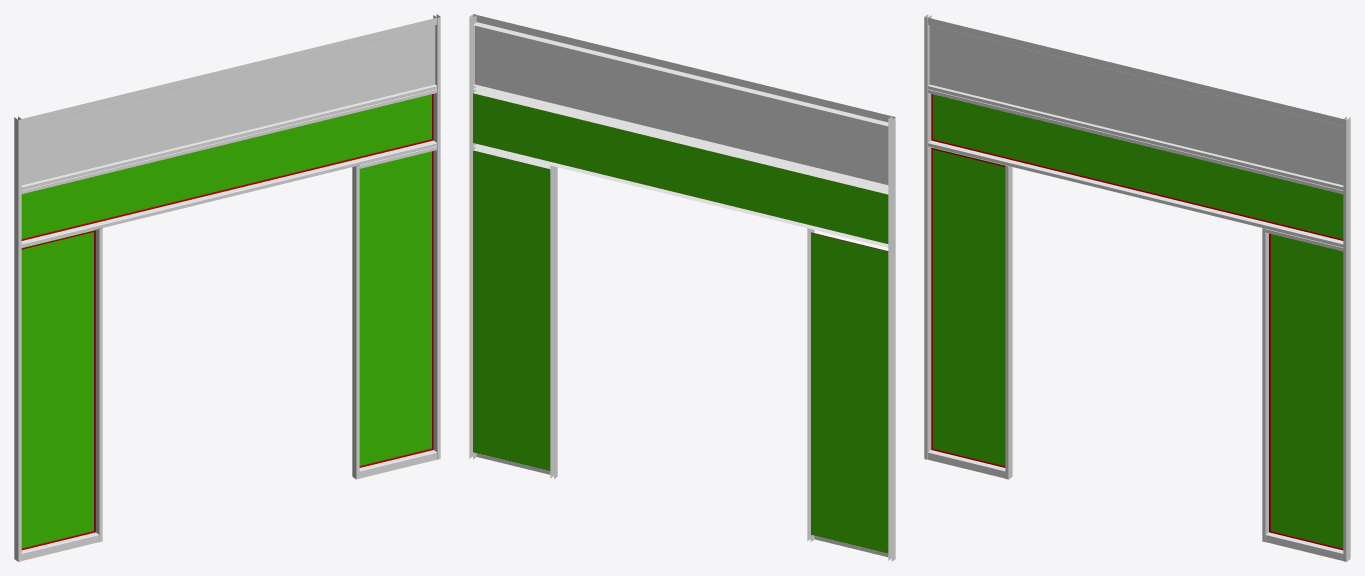
The model's file is Wall04Door.fbx.
The picture shows the model from 3 angles, left to right: view 1: azimuth 30°, elevation 25°; view 2: azimuth 150°, elevation 25°; view 3: azimuth 330°, elevation 25°; orthographic projection.
Parts seen in each view (by area): view 1: Wall04Door; view 2: Wall04Door; view 3: Wall04Door.
Part boxes in pixels (x1=…): Wall04Door: x1=14, y1=14, x2=440, y2=561; Wall04Door: x1=469, y1=14, x2=895, y2=561; Wall04Door: x1=924, y1=14, x2=1350, y2=561.
Bounding box in the file's own units: 300 × 300 × 5.
